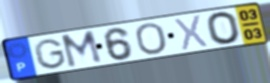6: (102, 26, 136, 61)
G: (32, 38, 68, 71)
M: (58, 29, 105, 70)
O: (204, 10, 243, 46), (133, 21, 170, 56)
X: (172, 13, 210, 52)
